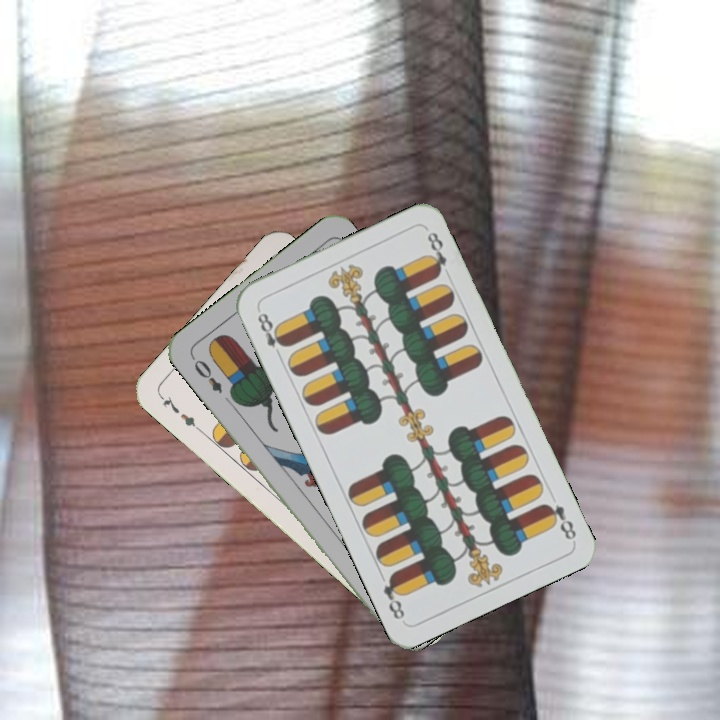E7: (155, 391, 204, 434)
E8: (253, 305, 290, 361), (539, 499, 579, 543)
EO: (187, 352, 225, 396)
